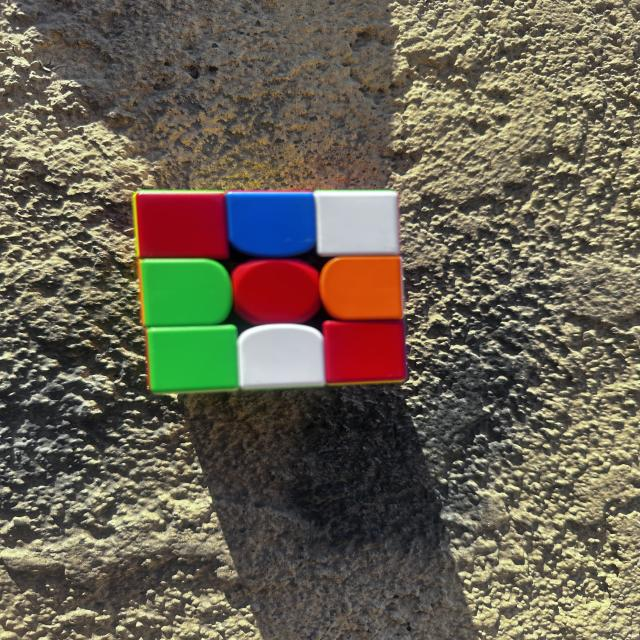sticker: (138, 259, 234, 328), (146, 325, 242, 394), (227, 191, 318, 259), (230, 259, 322, 326), (314, 191, 402, 260), (238, 324, 328, 390), (322, 319, 409, 386), (318, 256, 404, 322), (141, 197, 225, 254)
